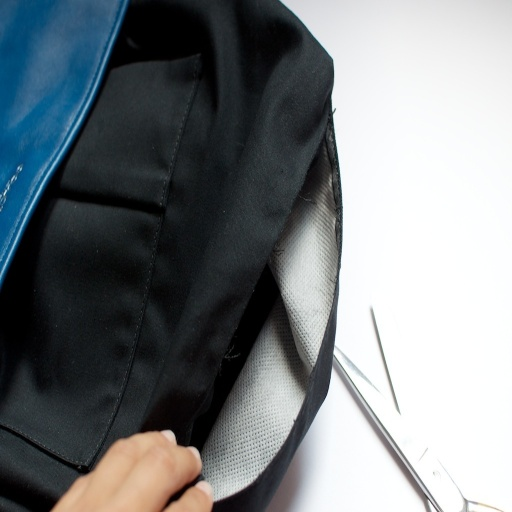hand: (53, 431, 214, 511)
